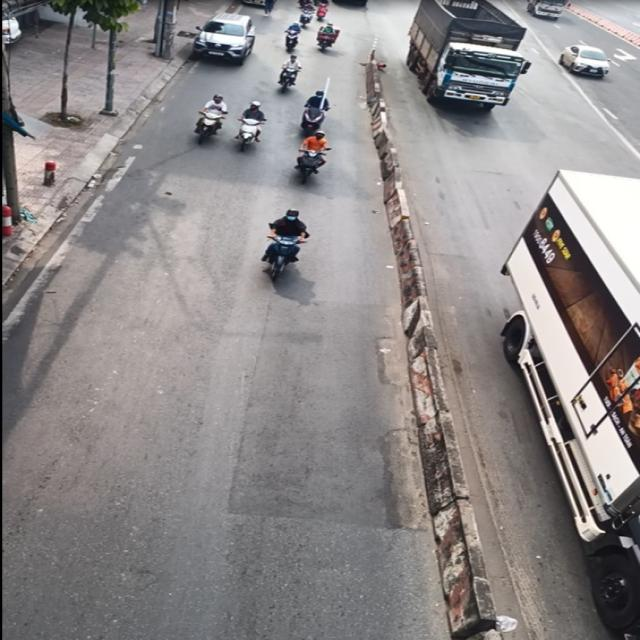car: (554, 36, 616, 84)
motor: (256, 200, 323, 305), (182, 88, 238, 148), (229, 99, 276, 165)
truck: (402, 0, 536, 122)
